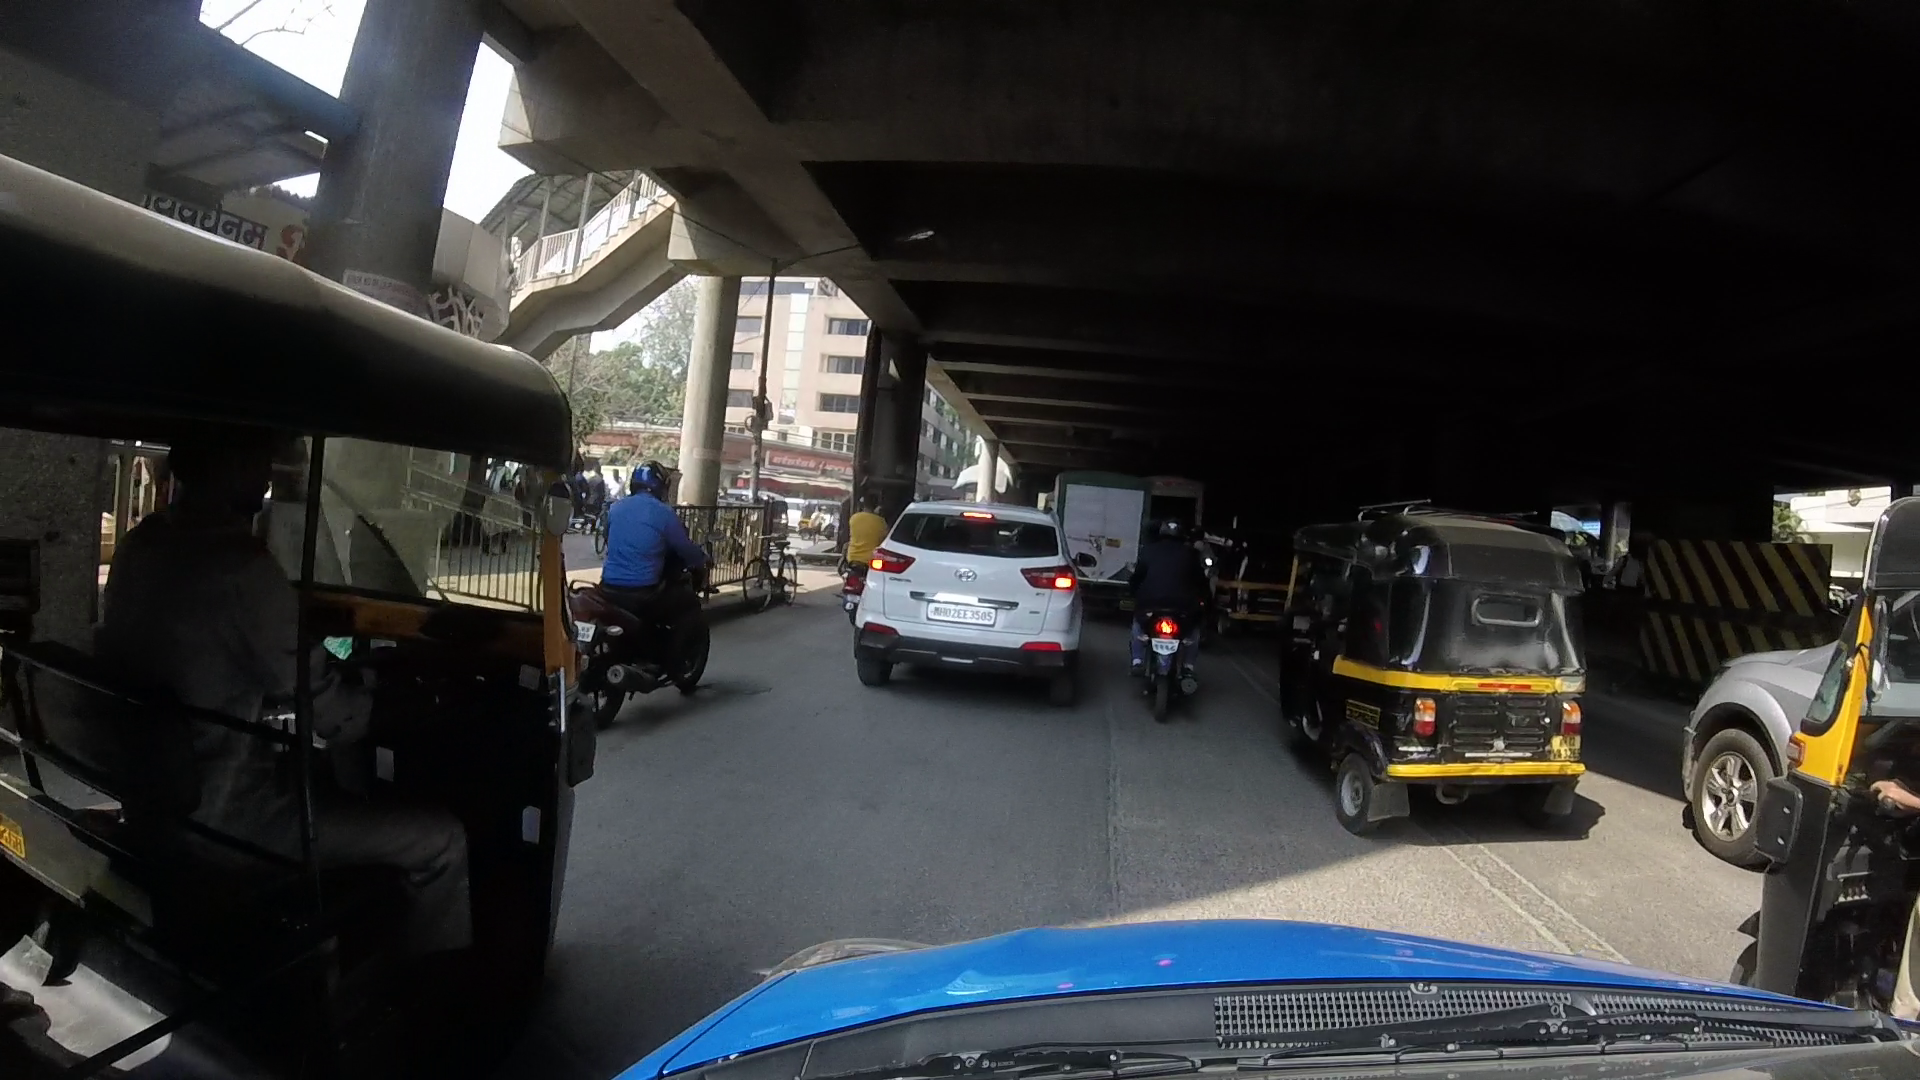bike/scooter: (603, 463, 702, 702), (1134, 522, 1203, 709)
car: (847, 498, 1077, 676)
rickshaw: (8, 160, 584, 1080), (1280, 495, 1590, 843), (1743, 585, 1920, 1015)
